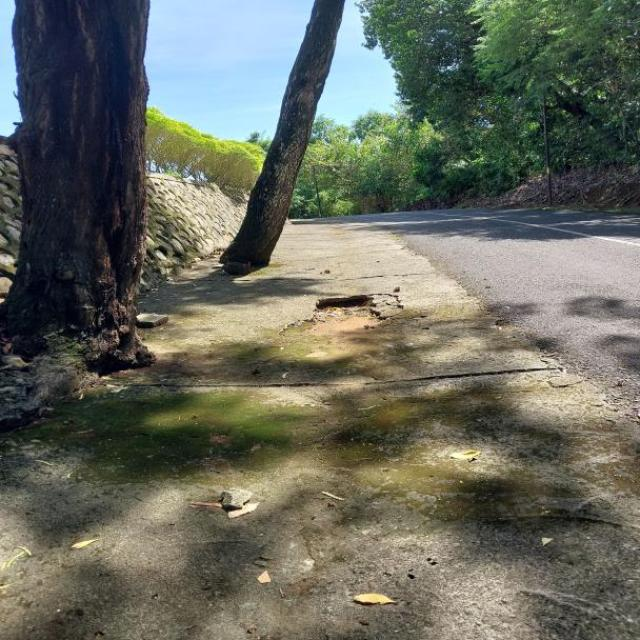tree ahead at: (3, 0, 155, 372), (216, 0, 348, 280)
